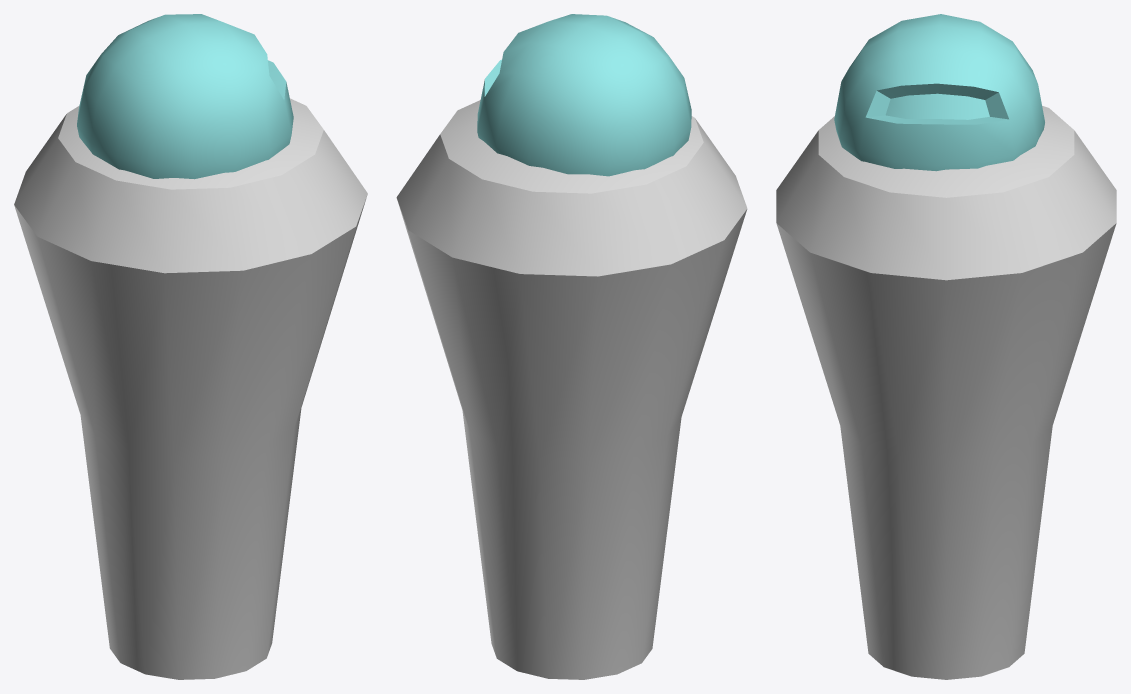
Rendered from L_LEG.fbx.
3 renders of one model, left to right at view 1: azimuth 30°, elevation 25°; view 2: azimuth 150°, elevation 25°; view 3: azimuth 270°, elevation 25°, orthographic.
Visible parts, largest first — view 1: pCylinder1, pCube2; view 2: pCylinder1, pCube2; view 3: pCylinder1, pCube2.
Boxes of the visible parts, <box> form: pCylinder1: <box>14,98,367,679</box>; pCube2: <box>77,14,293,179</box>; pCylinder1: <box>396,100,747,679</box>; pCube2: <box>477,14,691,176</box>; pCylinder1: <box>776,105,1116,679</box>; pCube2: <box>834,14,1044,171</box>.
Bounding box in the file's own units: 1.05 × 2.04 × 1.02.
